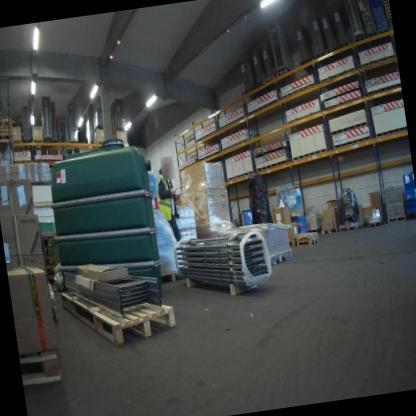pallet: (54, 263, 185, 357), (179, 263, 272, 305), (18, 334, 71, 391), (279, 77, 319, 106), (289, 142, 332, 165), (245, 93, 283, 119), (332, 132, 376, 154), (316, 65, 358, 88), (217, 134, 259, 157), (252, 152, 293, 175), (358, 51, 397, 73), (156, 263, 183, 292), (265, 244, 296, 269), (214, 110, 251, 130), (221, 164, 256, 185), (365, 77, 401, 97), (274, 62, 296, 89), (374, 123, 407, 141), (330, 122, 370, 134), (385, 211, 411, 229), (194, 127, 220, 144), (296, 234, 323, 249), (196, 148, 223, 163), (338, 219, 362, 235), (363, 216, 384, 231), (336, 37, 353, 54), (352, 31, 368, 48), (367, 27, 381, 46), (322, 41, 338, 57), (312, 48, 328, 62), (319, 224, 338, 235), (265, 72, 279, 85), (378, 25, 391, 38), (93, 139, 107, 150), (22, 137, 33, 147), (43, 136, 51, 148)
